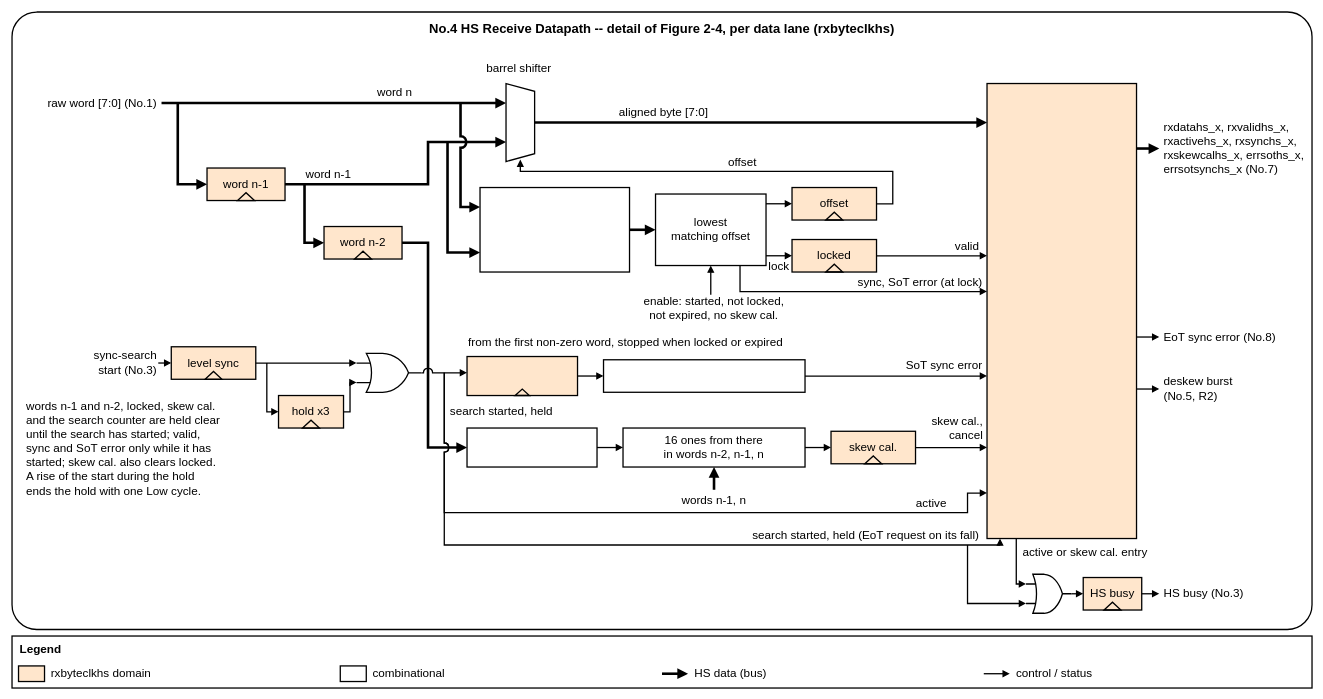
This 1323x699 diagram has some shape labels left out. Each missing label, with the centre of its shape:
"= PARA_SYNC_SEARCH_BYTES" belongs at point 704,376.
"EoT delay line and trailer removal Figure 4-9" belongs at point 1061,311.
"first-1 position" belongs at point 531,447.
"leader comparators: 8 offsets, each <= 1 bit differs" belongs at point 554,229.
"search counter" belongs at point 522,376.
